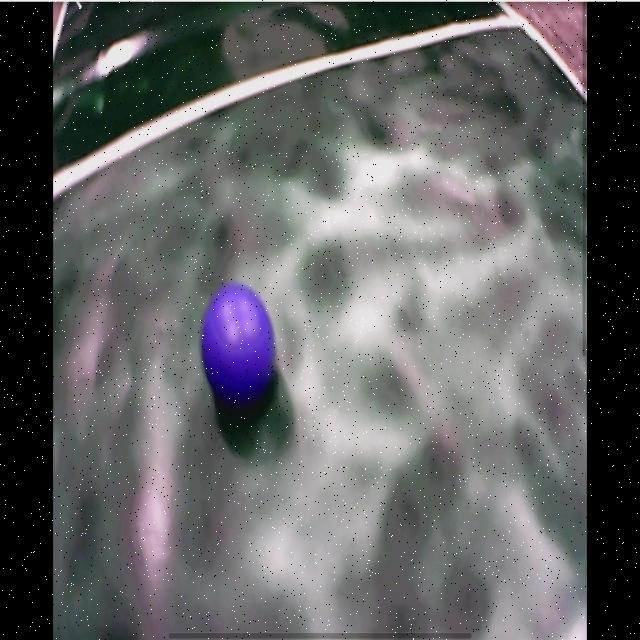ball: (205, 285, 276, 403)
